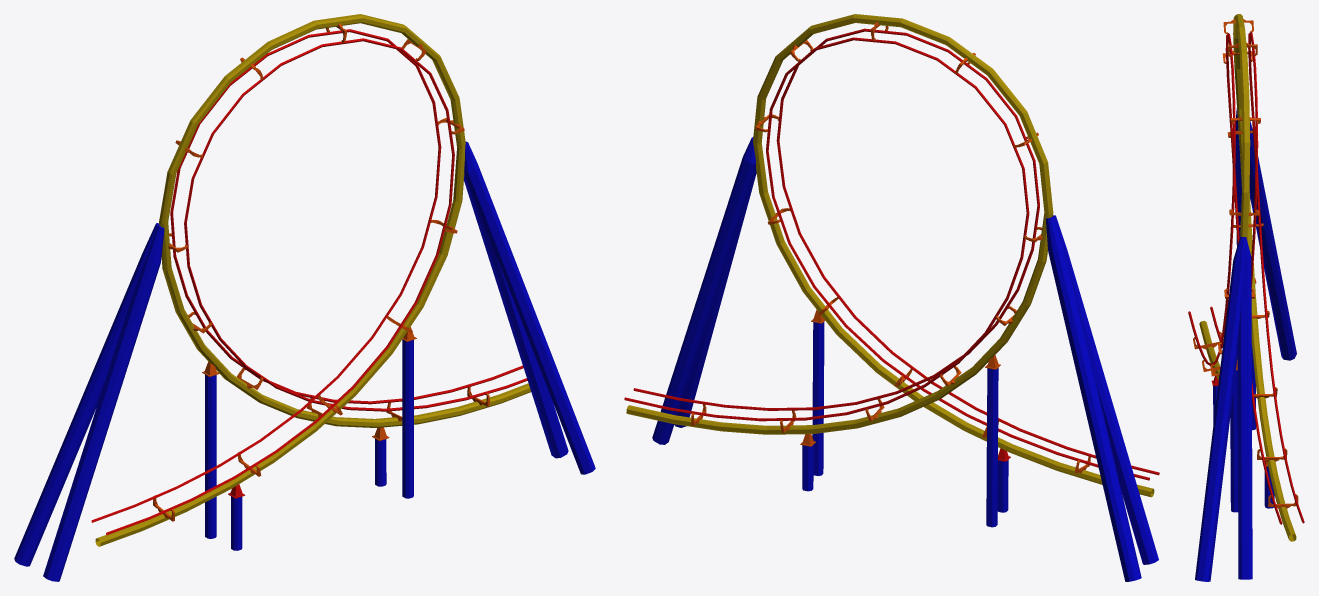
File: 2- Kukulkan.FBX
The picture shows the model from 3 angles, left to right: view 1: azimuth 30°, elevation 25°; view 2: azimuth 150°, elevation 25°; view 3: azimuth 270°, elevation 25°; orthographic projection. The views are drawn at different scales.
Visible parts, largest first — view 1: 2- Kukulkan; view 2: 2- Kukulkan; view 3: 2- Kukulkan.
Part boxes in pixels (<box>): 2- Kukulkan: <box>14,14,595,581</box>; 2- Kukulkan: <box>624,14,1159,581</box>; 2- Kukulkan: <box>1188,14,1304,581</box>.
Bounding box in the file's own units: 634 × 567 × 134.
